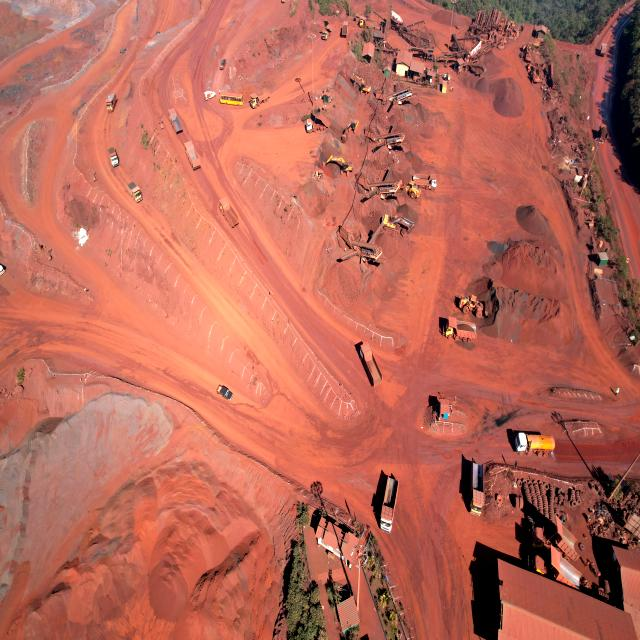Dumper truck: (376, 473, 397, 532), (363, 336, 383, 388), (469, 462, 484, 516), (440, 318, 475, 338), (184, 140, 202, 169), (219, 198, 236, 225), (308, 110, 332, 129), (167, 107, 183, 134), (250, 88, 272, 107), (413, 173, 437, 190), (128, 182, 142, 204), (470, 497, 483, 514), (359, 16, 376, 28), (109, 147, 118, 167), (322, 21, 330, 40), (106, 94, 114, 111), (600, 124, 607, 139), (342, 22, 348, 37), (601, 44, 606, 56)
Excavator: (381, 215, 415, 238), (324, 154, 353, 172), (342, 117, 358, 141), (352, 72, 368, 95), (15, 368, 24, 389)
car: (215, 386, 232, 399), (221, 58, 227, 72), (204, 92, 216, 98)
person: (615, 386, 620, 396)
